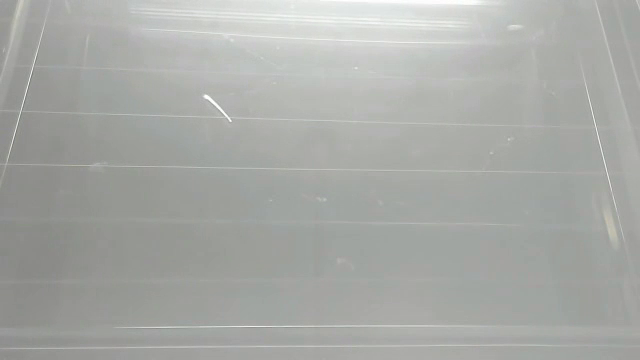alpha: (196, 87, 238, 128), (501, 17, 530, 35)
